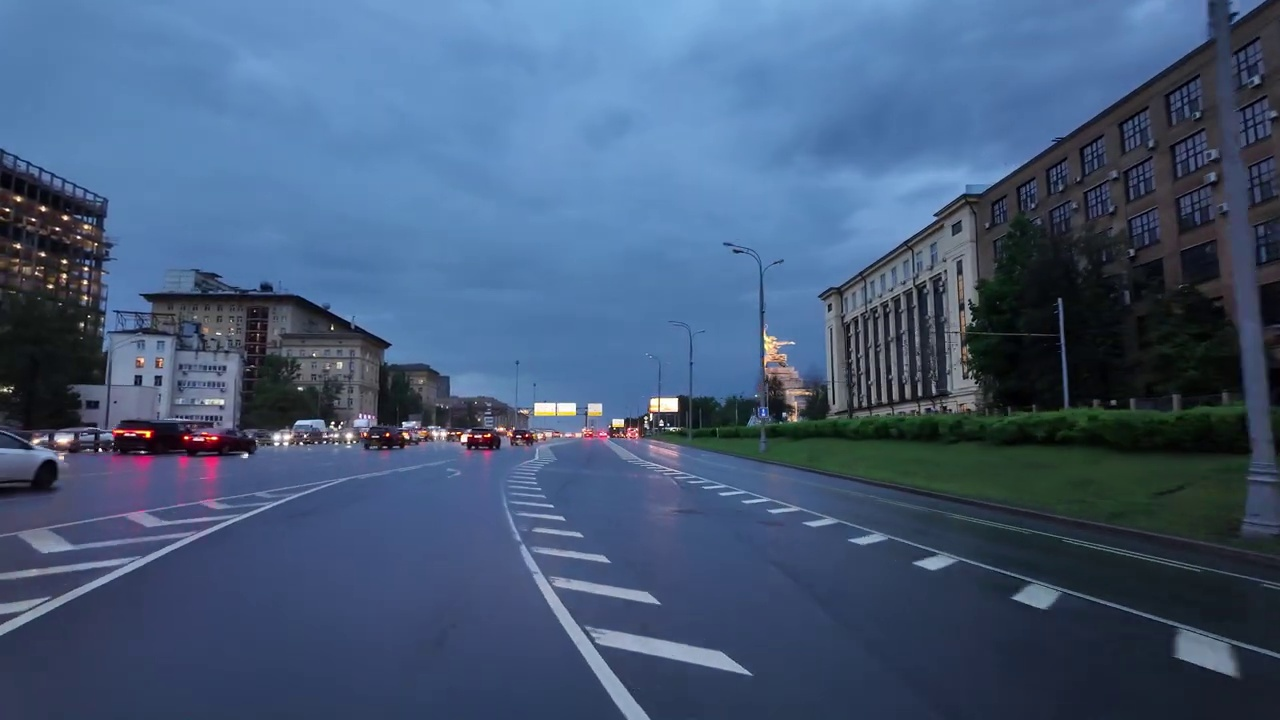apagada: (718, 234, 747, 259)
